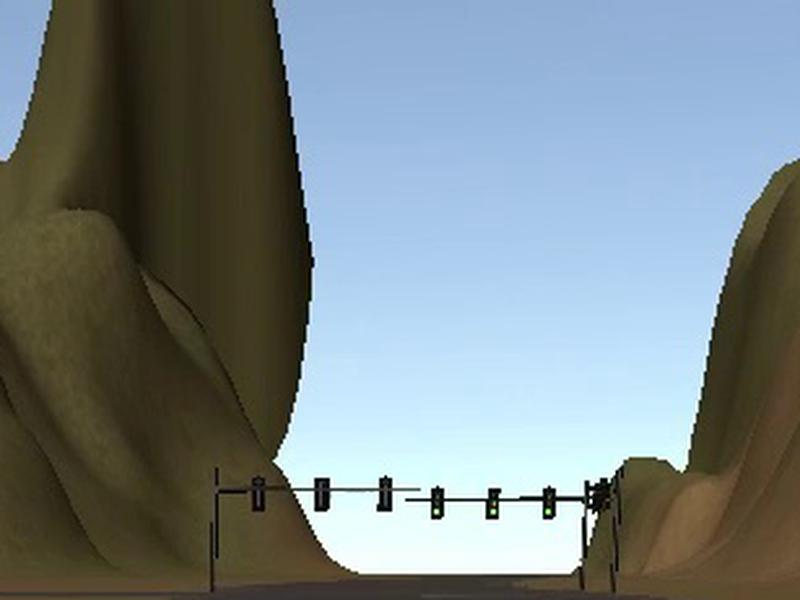Green: (541, 486, 557, 519), (484, 488, 501, 519), (430, 487, 444, 519)
